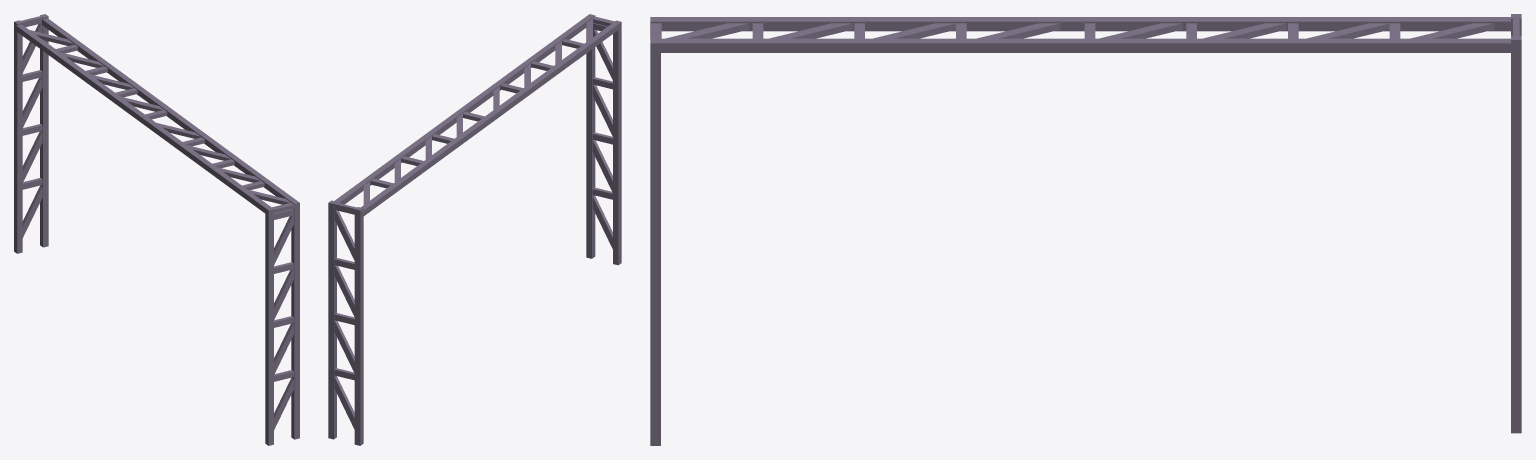
File: balki.fbx
The picture shows the model from 3 angles, left to right: view 1: azimuth 30°, elevation 25°; view 2: azimuth 150°, elevation 25°; view 3: azimuth 270°, elevation 25°; orthographic projection. The views are drawn at different scales.
Parts seen in each view (by area): view 1: pCube81; view 2: pCube81; view 3: pCube81.
Boxes of the visible parts, x1,y1,x2,y2 form: pCube81: [14, 14, 299, 445]; pCube81: [328, 14, 621, 445]; pCube81: [650, 14, 1521, 445].
Size of the model in its own units: 0.021 by 0.1501 by 0.2918.
